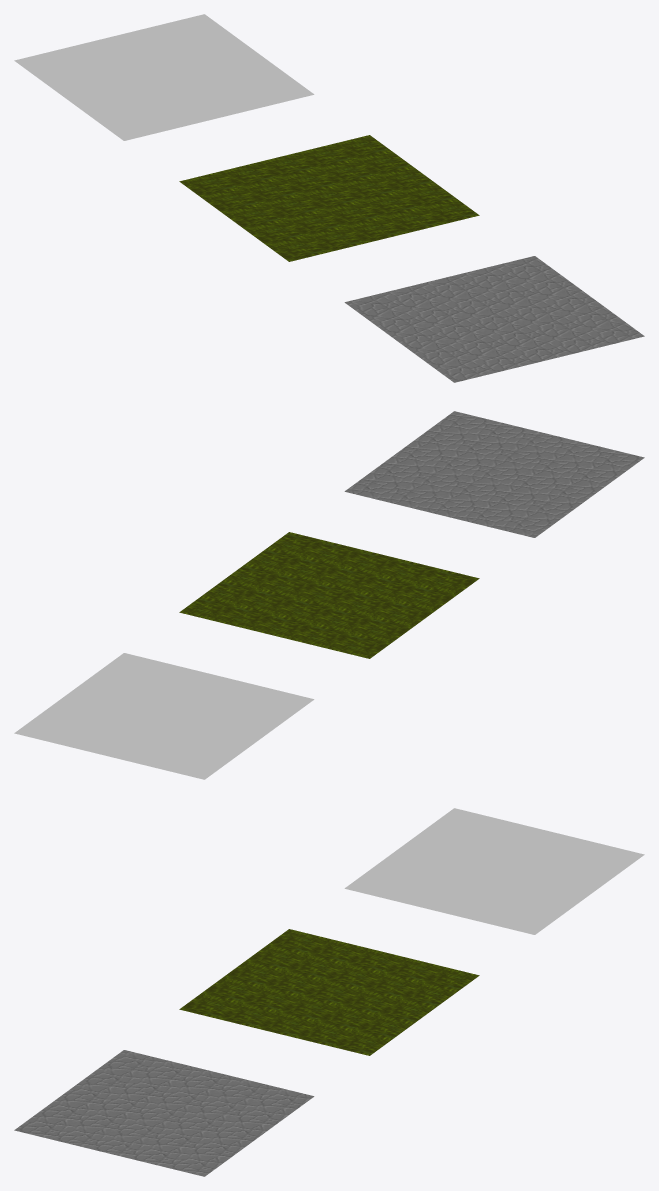
The model's file is Stone-grass-hp.fbx.
3 renders of one model, top to bottom at view 1: azimuth 30°, elevation 25°; view 2: azimuth 150°, elevation 25°; view 3: azimuth 330°, elevation 25°, orthographic.
Parts seen in each view (by area): view 1: Plane.004, Plane.009, Plane.011, Plane.022, Plane.034, Plane.037, Plane.043, Plane.044, Plane.002, Plane.006, Plane.007, Plane.010 (+63 smaller); view 2: Plane.001, Plane.012, Plane.017, Plane.020, Plane.031, Plane.032, Plane.046, Plane.049, Plane.002, Plane.005, Plane.006, Plane.007 (+63 smaller); view 3: Plane.001, Plane.012, Plane.017, Plane.020, Plane.031, Plane.032, Plane.046, Plane.049, Plane.002, Plane.005, Plane.006, Plane.007 (+63 smaller).
Part boxes in pixels (bbox=[...]): Plane.004: bbox=[459, 265, 518, 290]; Plane.009: bbox=[449, 332, 508, 357]; Plane.011: bbox=[410, 341, 469, 366]; Plane.022: bbox=[470, 348, 529, 373]; Plane.034: bbox=[140, 106, 199, 131]; Plane.037: bbox=[189, 30, 248, 55]; Plane.043: bbox=[150, 39, 209, 64]; Plane.044: bbox=[129, 23, 188, 48]; Plane.002: bbox=[465, 306, 524, 331]; Plane.006: bbox=[421, 274, 480, 299]; Plane.007: bbox=[443, 290, 501, 315]; Plane.010: bbox=[388, 325, 447, 350]; Plane.001: bbox=[449, 436, 508, 461]; Plane.012: bbox=[459, 503, 518, 528]; Plane.017: bbox=[410, 427, 469, 452]; Plane.020: bbox=[470, 420, 529, 445]; Plane.031: bbox=[150, 729, 209, 754]; Plane.032: bbox=[129, 745, 188, 770]; Plane.046: bbox=[140, 662, 199, 687]; Plane.049: bbox=[189, 738, 248, 763]; Plane.002: bbox=[465, 462, 524, 487]; Plane.005: bbox=[404, 468, 463, 493]; Plane.006: bbox=[421, 494, 480, 519]; Plane.007: bbox=[443, 478, 501, 503]; Plane.001: bbox=[150, 1126, 209, 1151]; Plane.012: bbox=[140, 1059, 199, 1084]; Plane.017: bbox=[189, 1135, 248, 1160]; Plane.020: bbox=[129, 1142, 188, 1167]; Plane.031: bbox=[449, 833, 508, 858]; Plane.032: bbox=[470, 817, 529, 842]; Plane.046: bbox=[459, 900, 518, 925]; Plane.049: bbox=[410, 824, 469, 849]; Plane.002: bbox=[134, 1100, 193, 1125]; Plane.005: bbox=[195, 1094, 254, 1119]; Plane.006: bbox=[178, 1068, 237, 1093]; Plane.007: bbox=[157, 1084, 215, 1109].
Bounding box in the file's own units: 1000 × 3.26e-05 × 4000.
